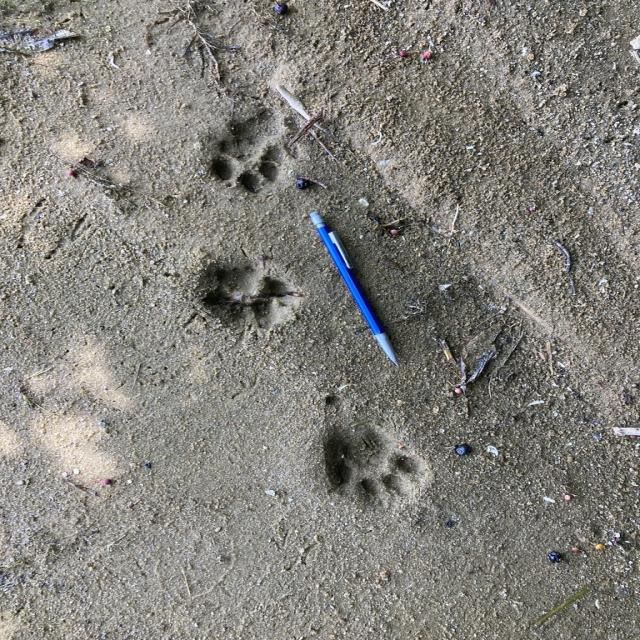felid: (323, 422, 430, 508), (208, 257, 297, 325), (212, 125, 286, 195)
